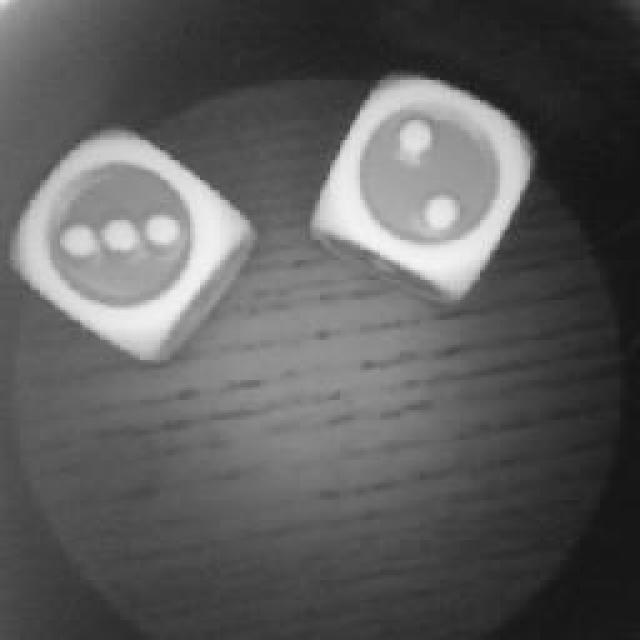dice_2: (315, 80, 525, 285)
dice_3: (12, 110, 240, 352)
